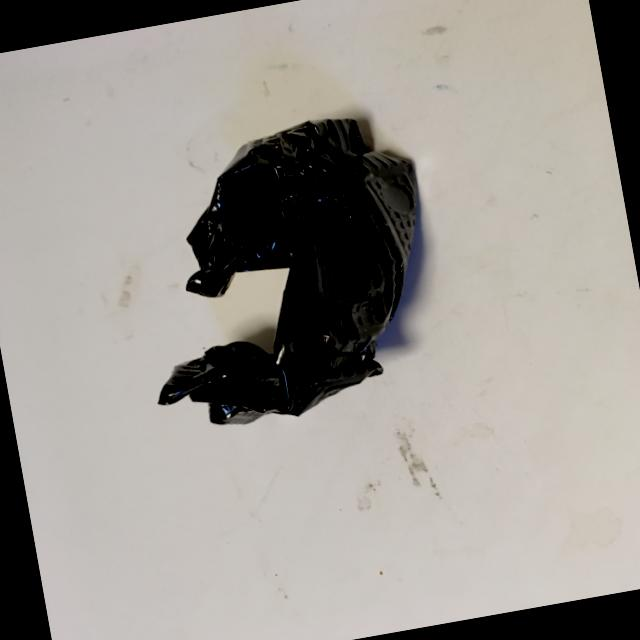Plastic: (105, 75, 500, 482)
